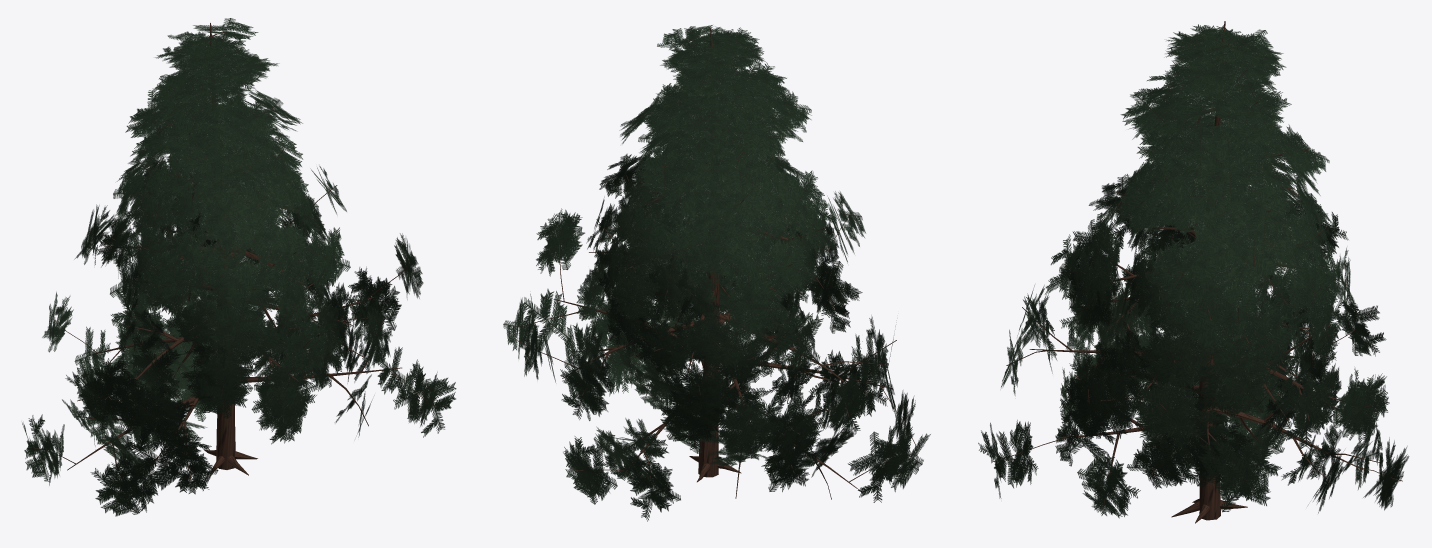
The model's file is DarkPine_2_LOD1.gltf.
3 views of the same model, side by side, from view 1: azimuth 30°, elevation 25°; view 2: azimuth 150°, elevation 25°; view 3: azimuth 270°, elevation 25° (orthographic). The views are drawn at different scales.
Parts seen in each view (by area): view 1: DarkPine_2_LOD1; view 2: DarkPine_2_LOD1; view 3: DarkPine_2_LOD1.
Part boxes in pixels (x1=…): DarkPine_2_LOD1: x1=22, y1=18, x2=456, y2=516; DarkPine_2_LOD1: x1=503, y1=25, x2=930, y2=521; DarkPine_2_LOD1: x1=978, y1=21, x2=1409, y2=523.
Size of the model in its own units: 15.65 by 17.16 by 13.87.
2 materials, 2 textured.
